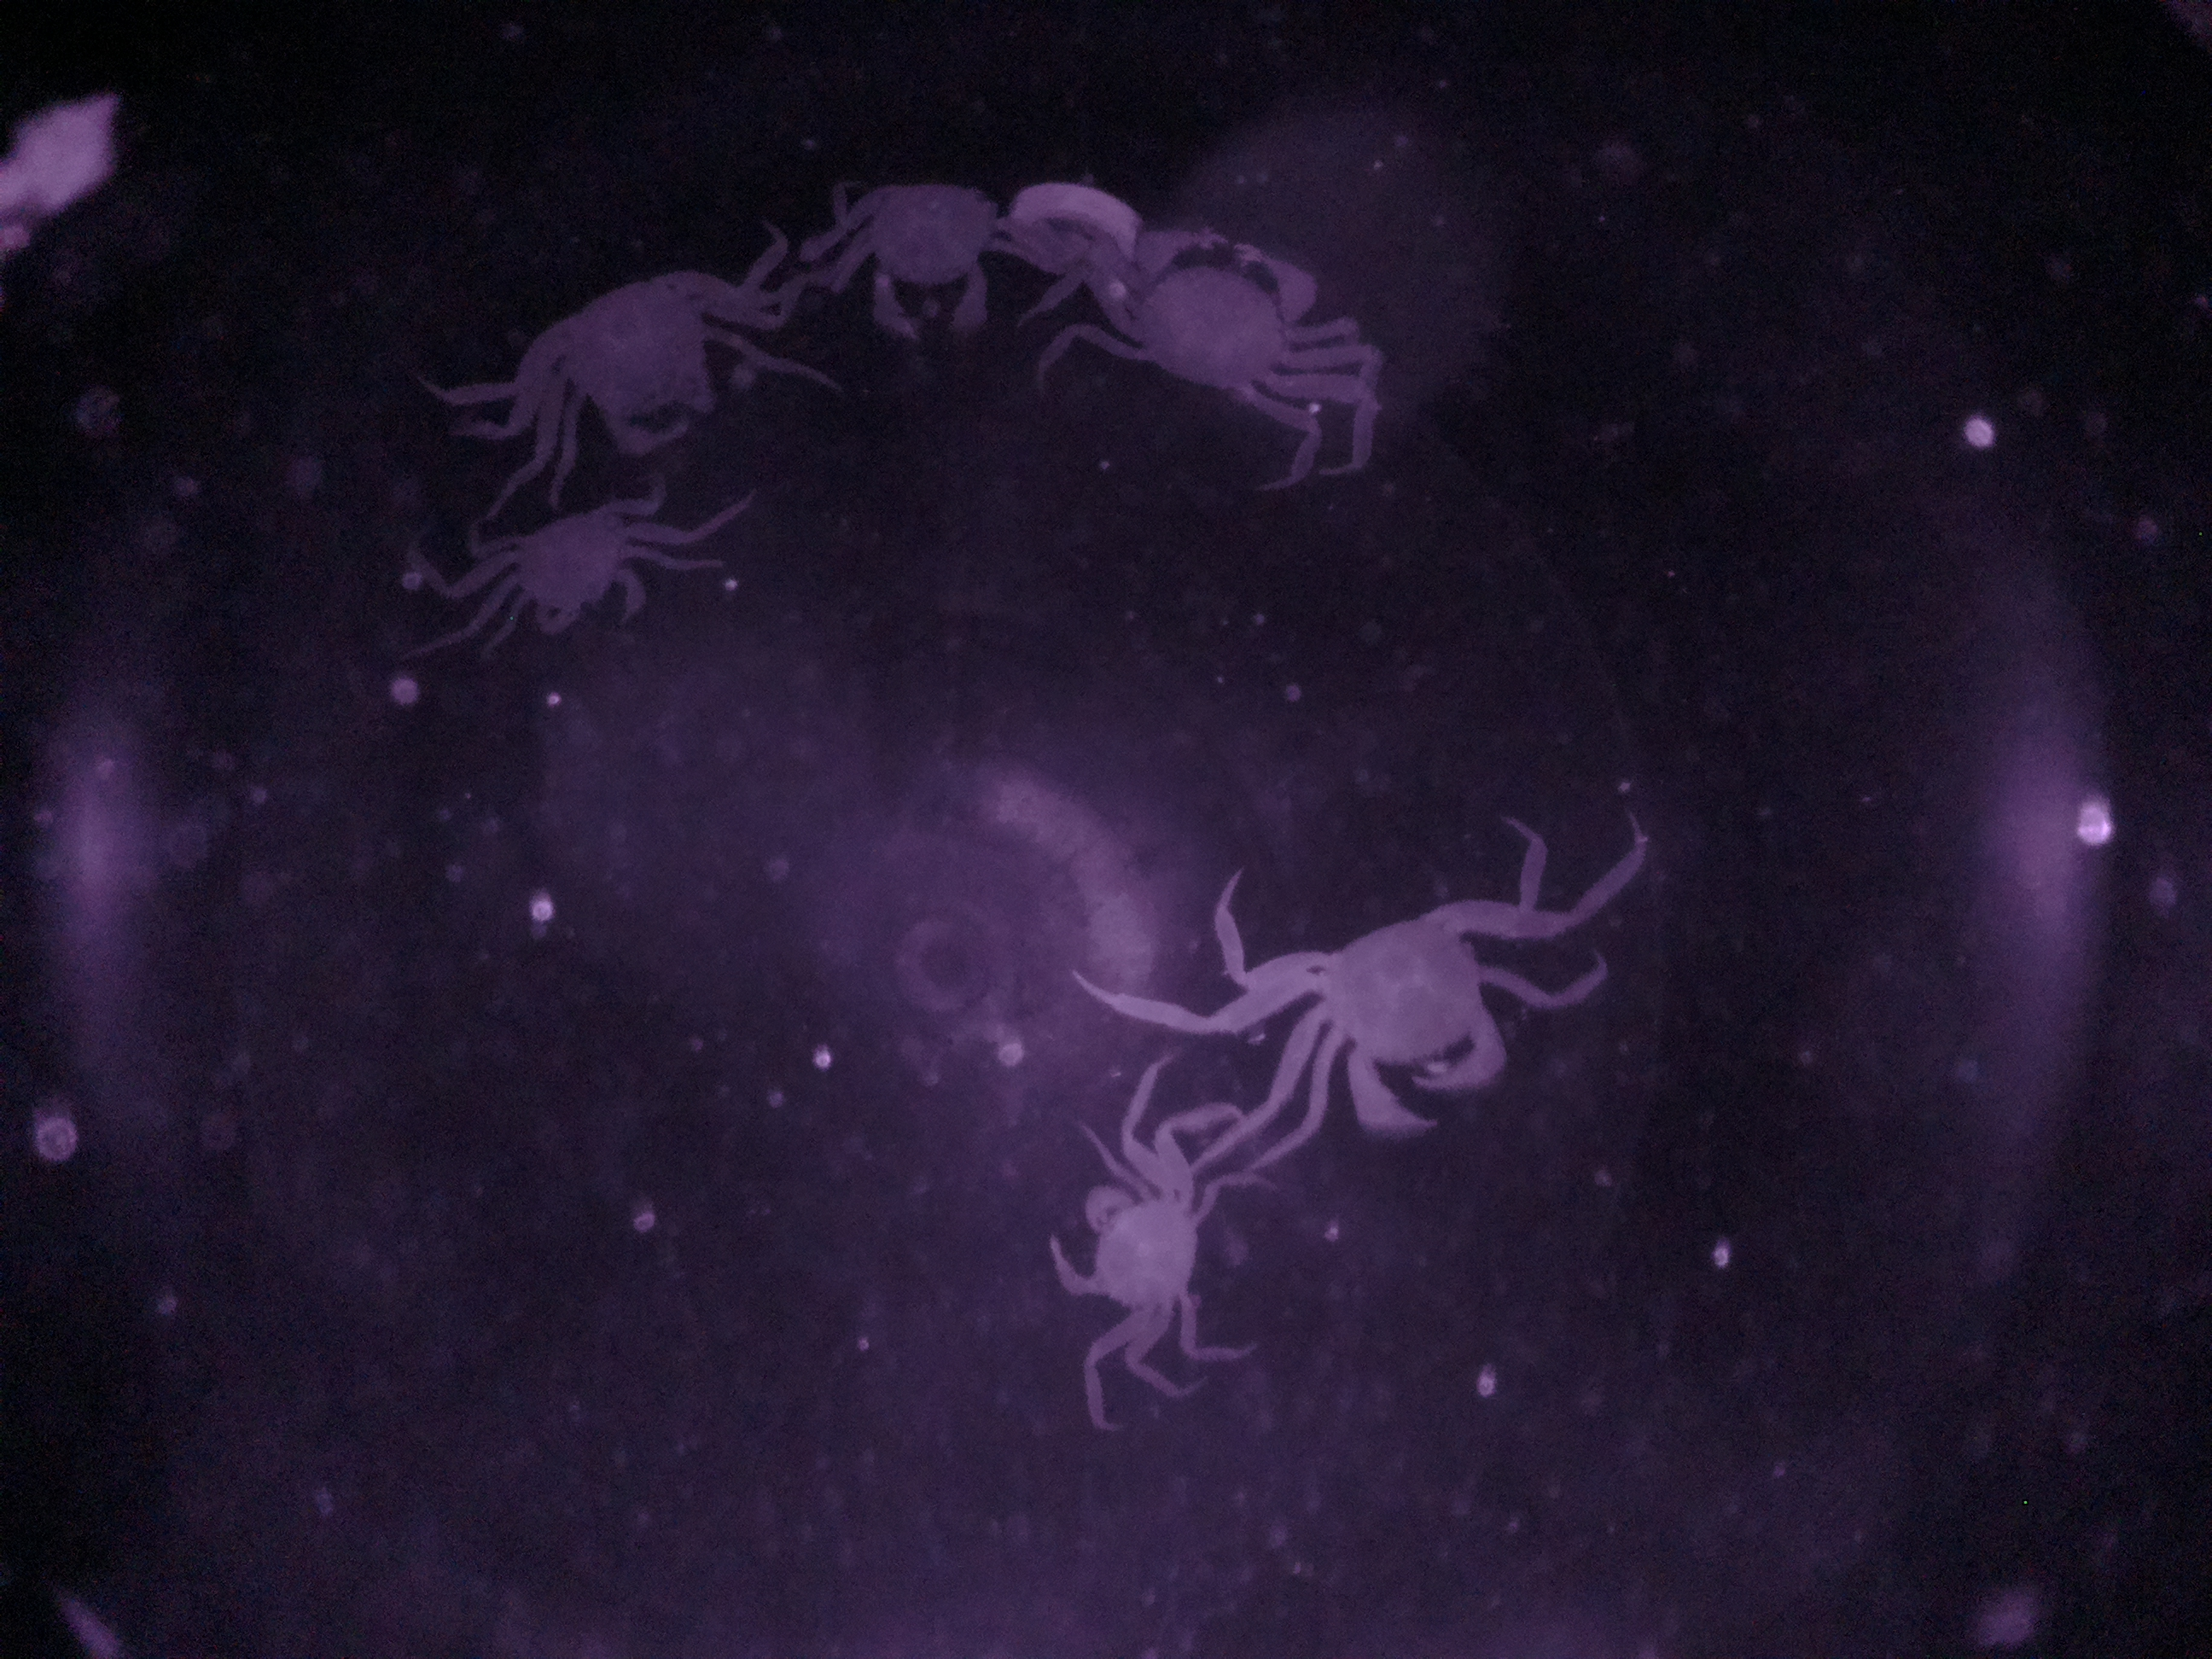Crab: (1233, 861, 1548, 1143), (1066, 213, 1360, 457), (531, 249, 745, 481), (1026, 1127, 1223, 1347), (456, 493, 681, 669), (831, 162, 1021, 359)
